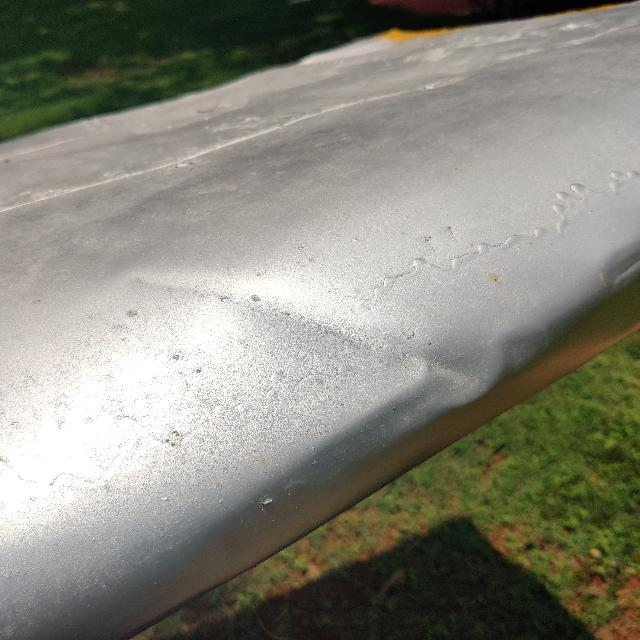dent: (158, 247, 544, 467), (590, 232, 640, 308)
